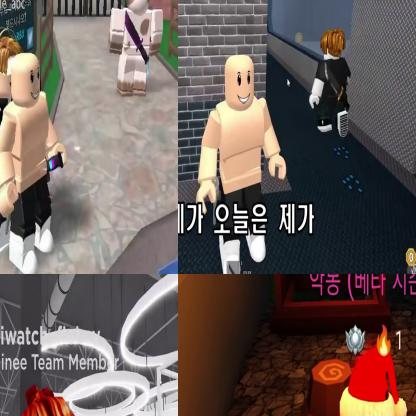Roblox-Avatar: (197, 56, 288, 274), (1, 53, 68, 274), (277, 346, 416, 416), (109, 1, 165, 98), (310, 28, 352, 138)
